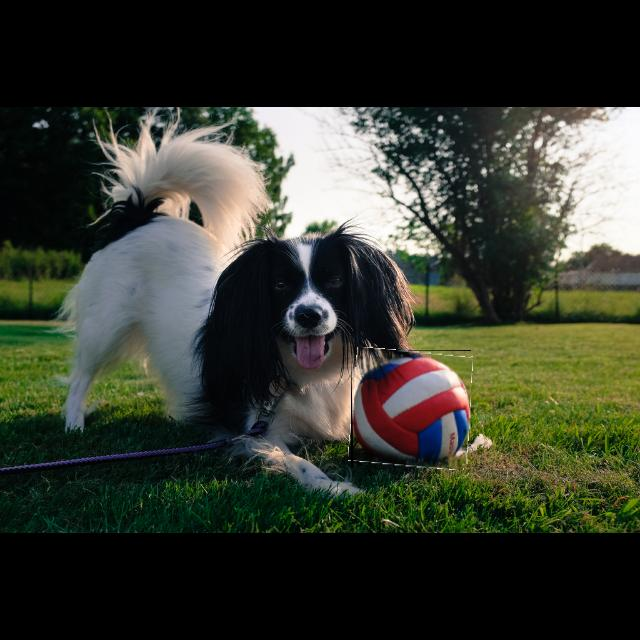Football: (351, 350, 471, 468)
